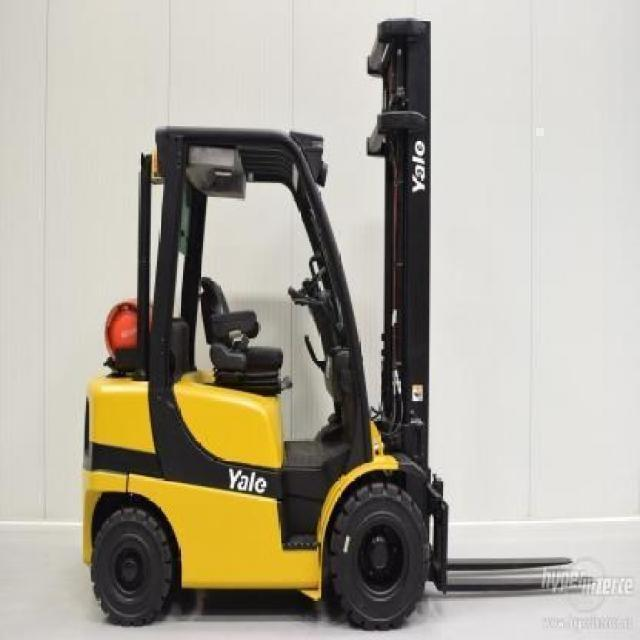forklift: (79, 20, 588, 635)
